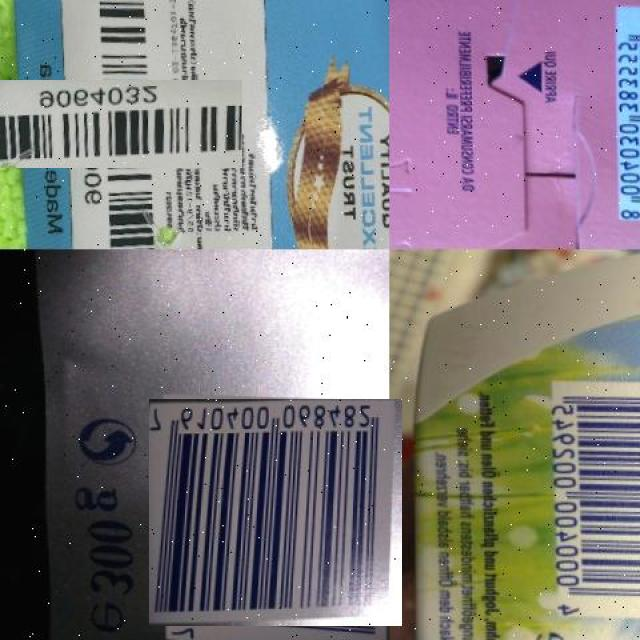Barcode: (155, 393, 396, 633), (34, 40, 202, 209), (546, 373, 640, 615)
